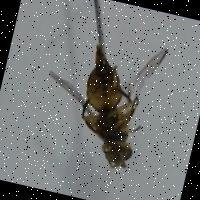Oriental-fruit-fly: (40, 19, 190, 184)
